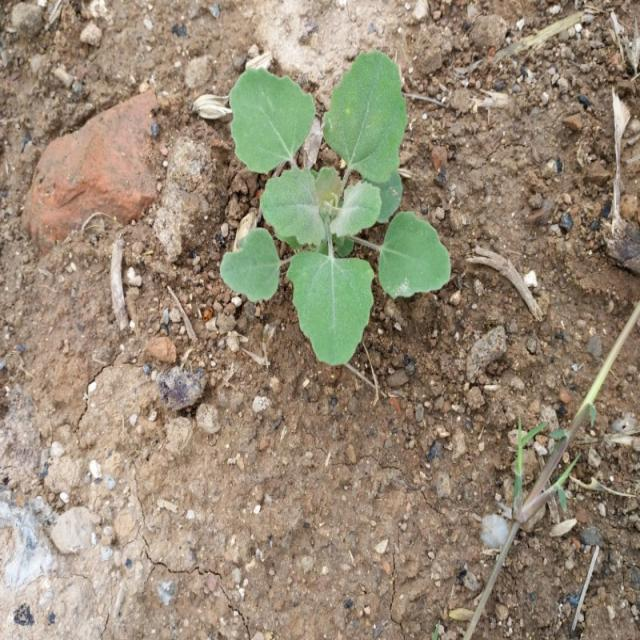ca: (225, 54, 452, 364)
